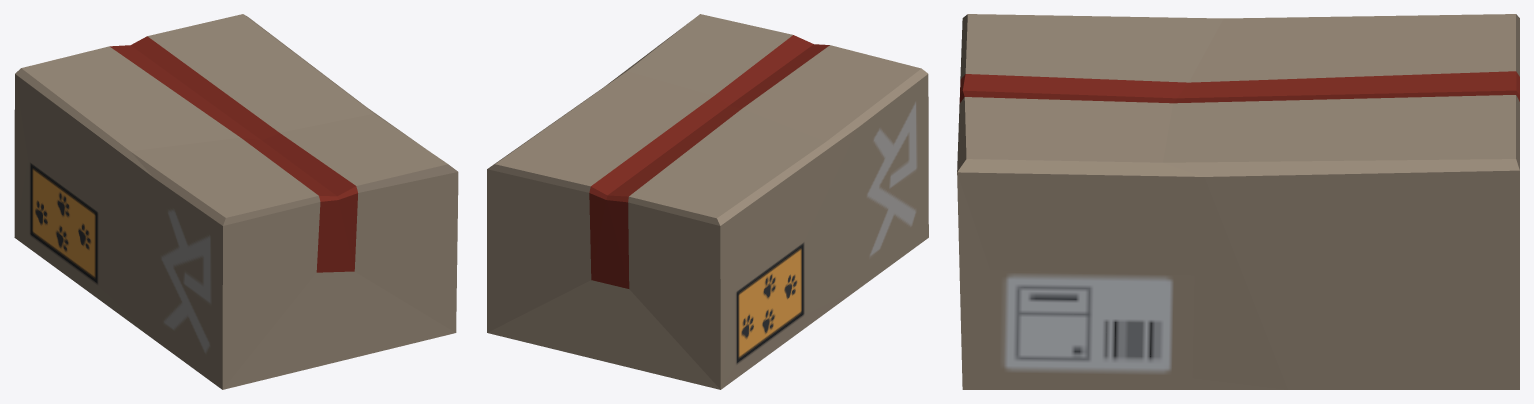
Rendered from SM_Prop_Cardboard_Box_01.fbx.
The picture shows the model from 3 angles, left to right: view 1: azimuth 30°, elevation 25°; view 2: azimuth 150°, elevation 25°; view 3: azimuth 270°, elevation 25°; orthographic projection. The views are drawn at different scales.
Visible parts, largest first — view 1: SM_Prop_Cardboard_Box_01; view 2: SM_Prop_Cardboard_Box_01; view 3: SM_Prop_Cardboard_Box_01.
Boxes of the visible parts, x1,y1,x2,y2 form: SM_Prop_Cardboard_Box_01: [14, 14, 458, 389]; SM_Prop_Cardboard_Box_01: [487, 14, 928, 389]; SM_Prop_Cardboard_Box_01: [957, 14, 1519, 389].
Bounding box in the file's own units: 46.59 × 32.36 × 72.3.
